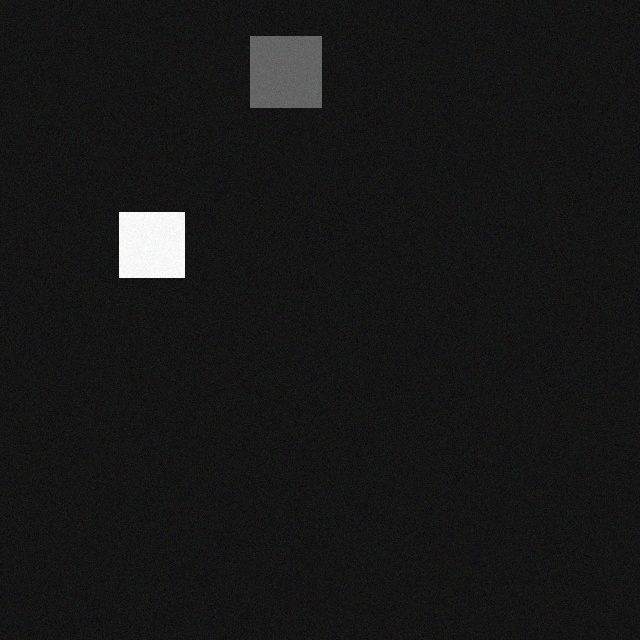square: (262, 35, 333, 106), (131, 211, 196, 276)
